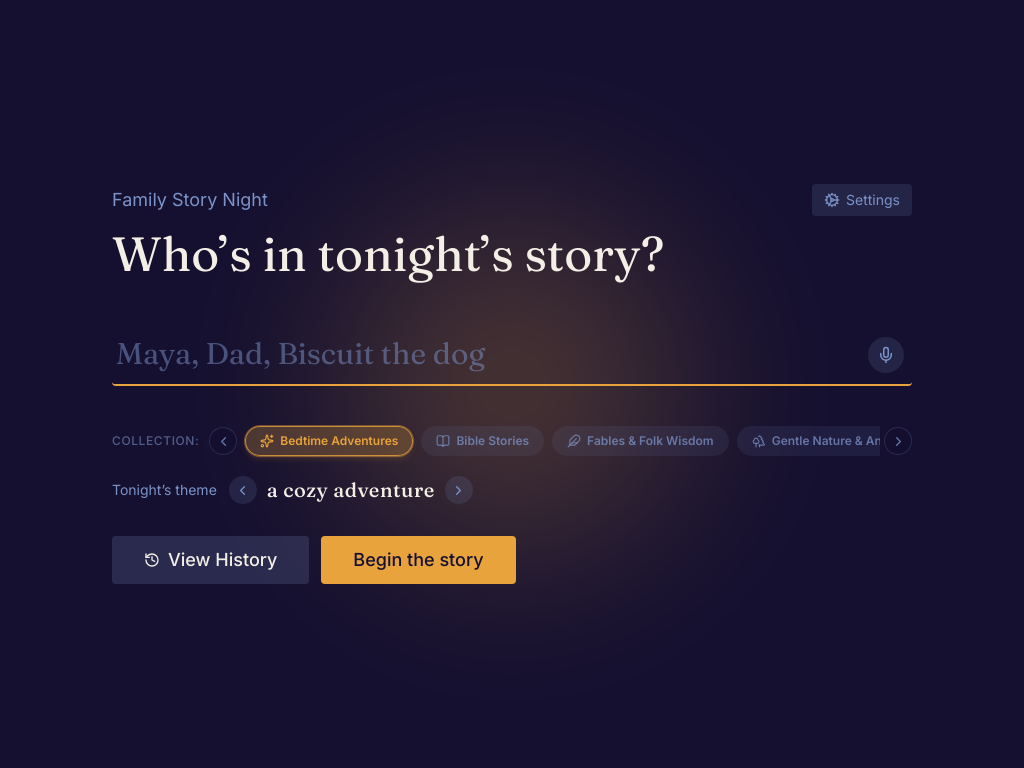
Scenario: Enhancements Full Integration (Tasks 7.3, 9.1, 11.1, 19.2) › navigates to settings and preserves parent settings changes (Task 16.1)
Open settings
Click the button with aria-label "Parent Settings" at (862, 200), box top-left (812, 184), bottom-right (912, 216)
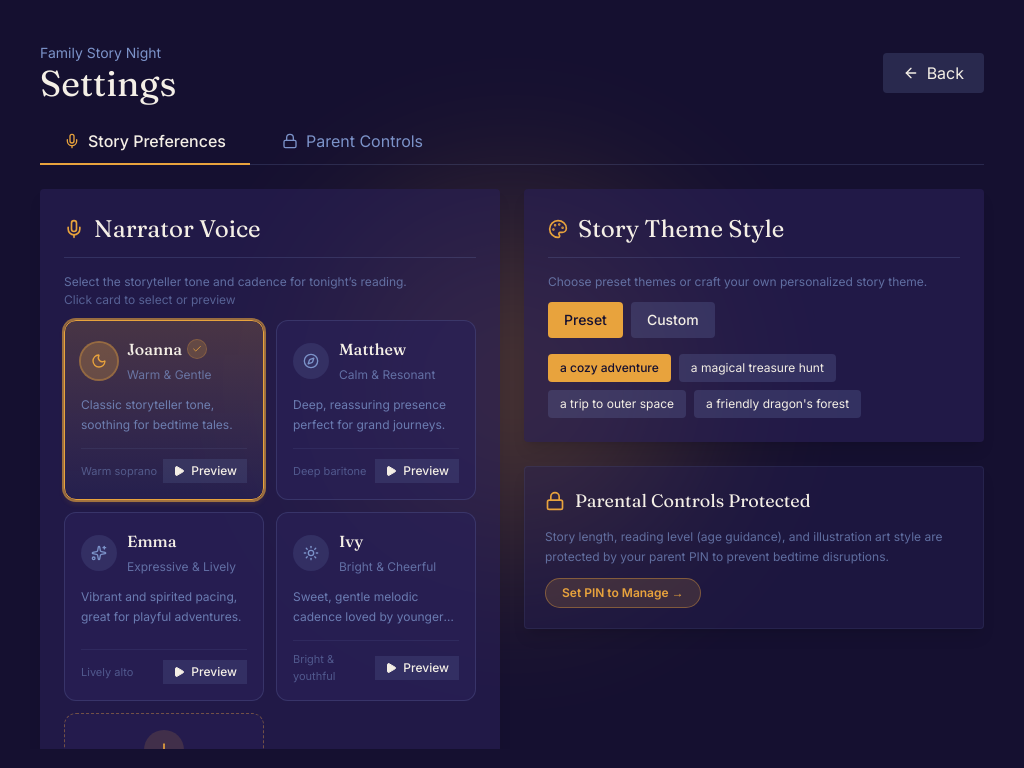
Switch to Parent Controls tab to configure PIN
Click the tab "Parent Controls" at (352, 142), box top-left (258, 119), bottom-right (447, 165)
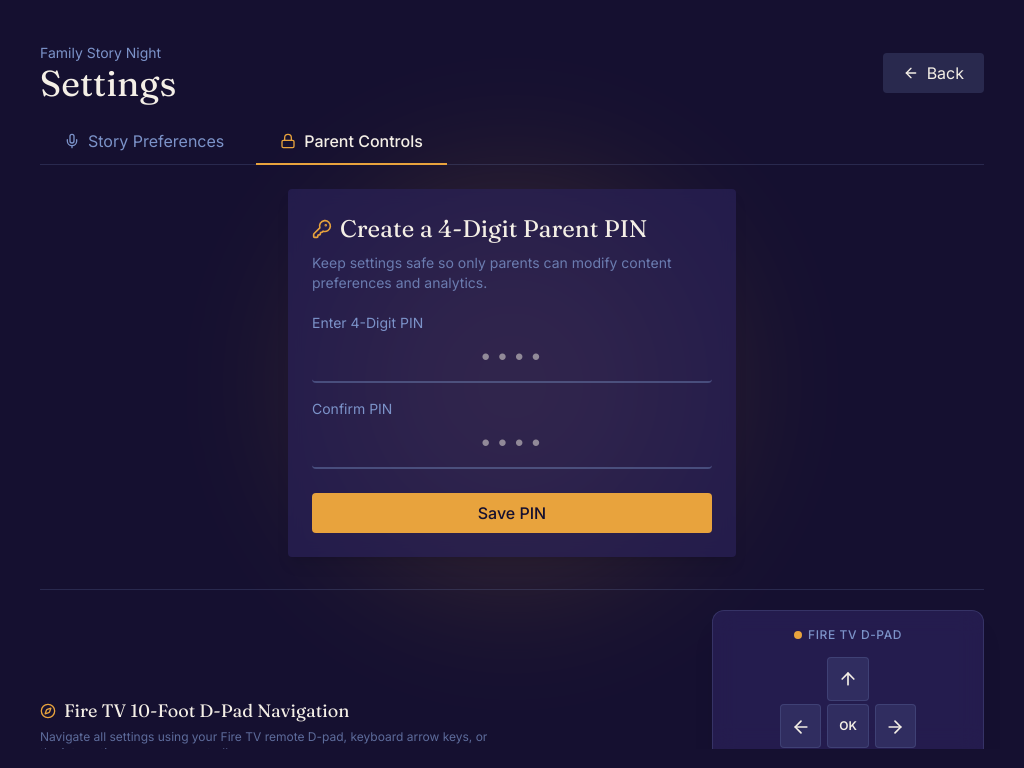
Expected: the heading "Create a 4-Digit Parent PIN" is shown, top-left (340, 213), bottom-right (648, 245)
Create PIN
Type "1234" into the password field with placeholder "••••" below "Enter 4-Digit PIN" at (512, 360), box top-left (312, 337), bottom-right (712, 383)
Type "1234" into the password field with placeholder "••••" at (512, 446), box top-left (312, 423), bottom-right (712, 469)
Click the button "Save PIN" at (512, 513), box top-left (312, 493), bottom-right (712, 533)
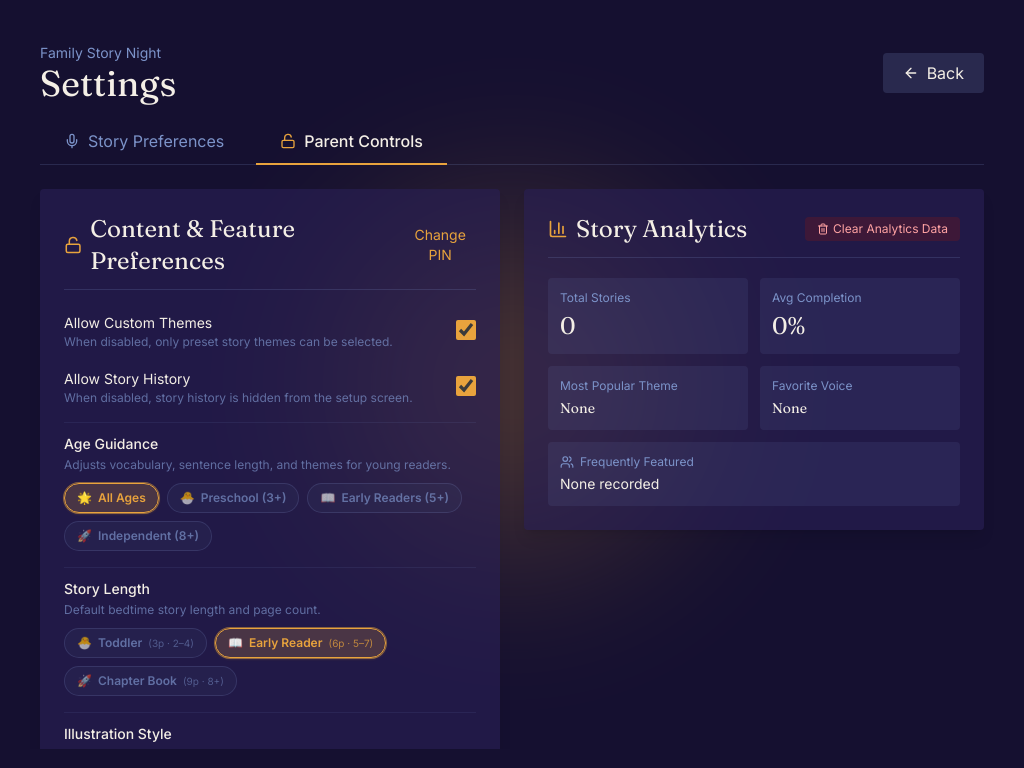
Expected: the heading "Content & Feature Preferences" is shown, top-left (90, 214), bottom-right (295, 275)
Toggle off Custom Themes
Click the checkbox labelled "Allow Custom Themes" at (466, 330), box top-left (456, 320), bottom-right (476, 340)
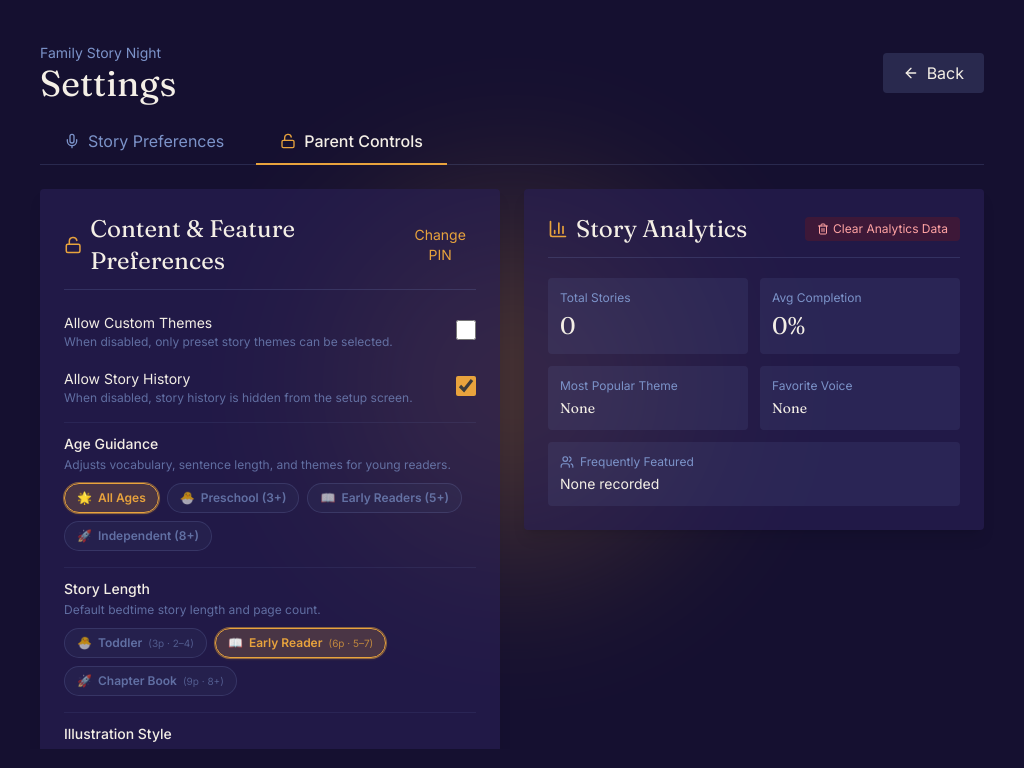
Switch to Story Preferences tab to verify Custom theme button is disabled/hidden
Click the tab "Story Preferences" at (144, 142), box top-left (40, 119), bottom-right (248, 165)
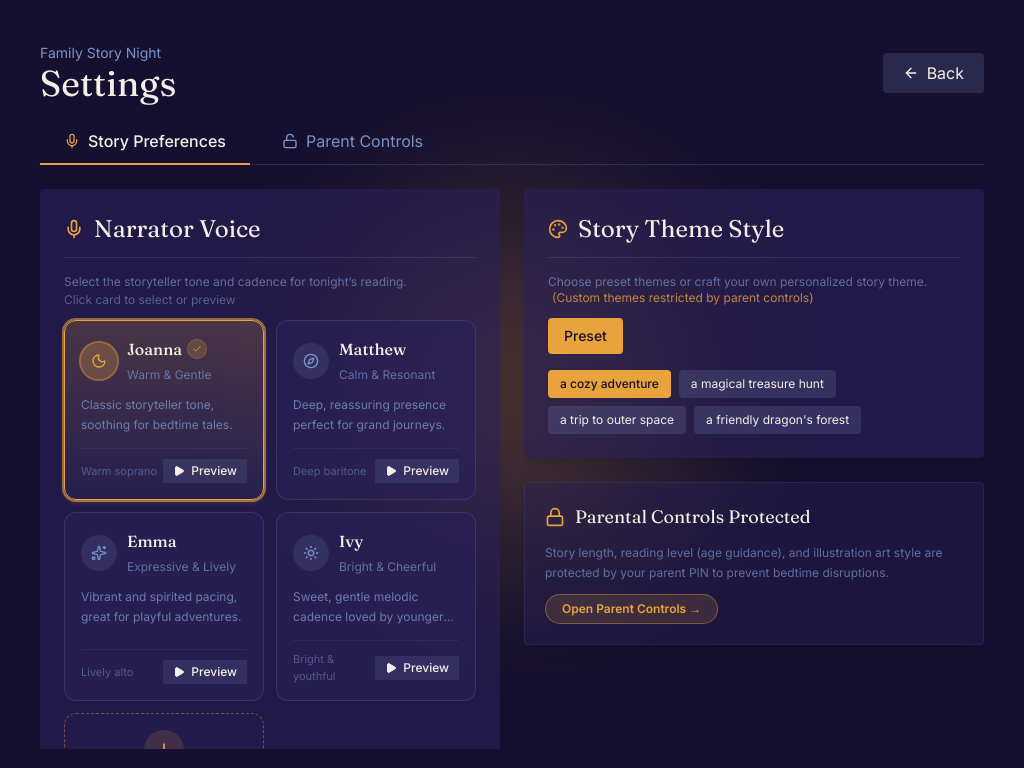
 Go back
Click the button "Back" at (933, 73), box top-left (883, 53), bottom-right (984, 93)
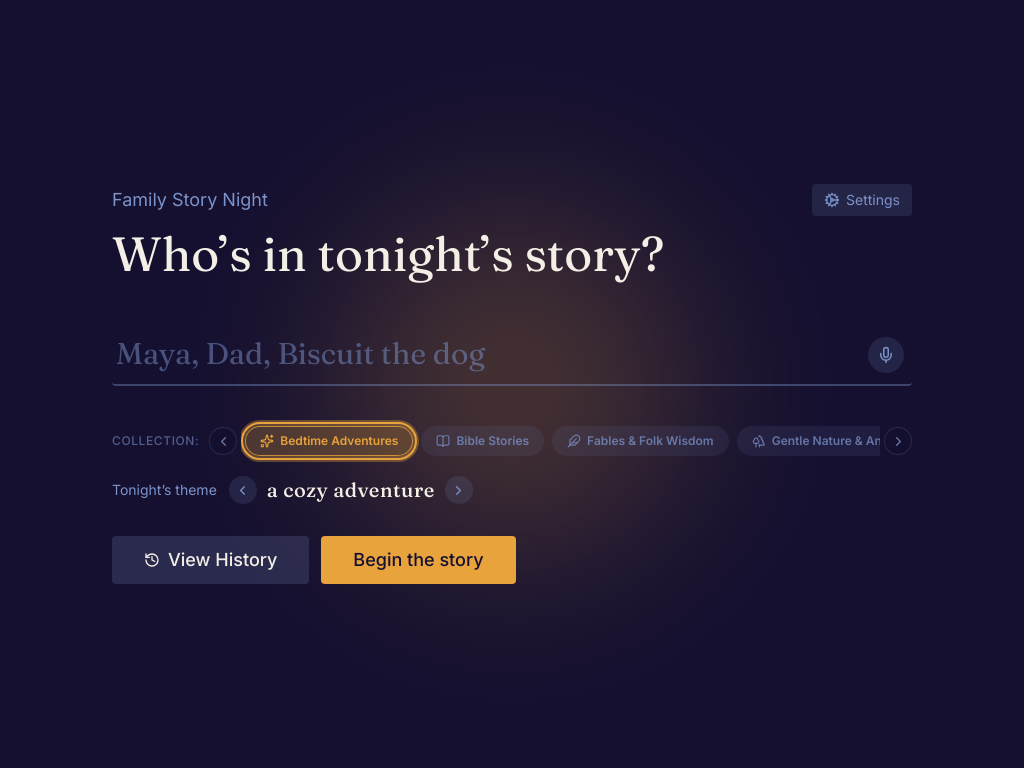
Expected: the heading "Who’s in tonight’s story?" is shown, top-left (112, 224), bottom-right (664, 283)
